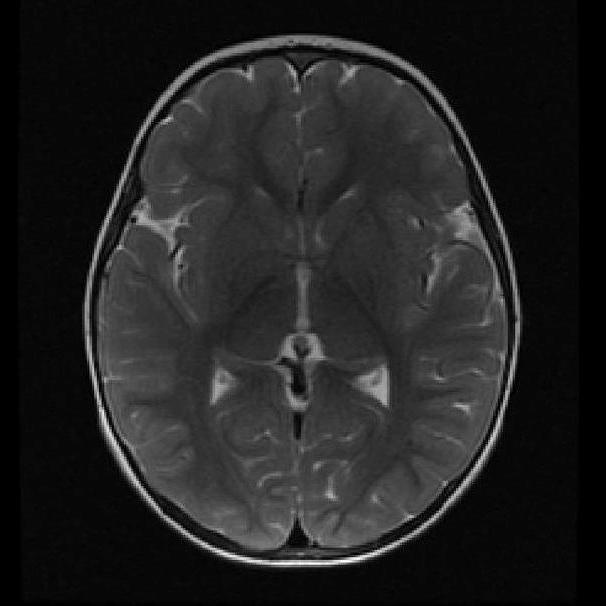Normal_Brain: (1, 1, 606, 606)
